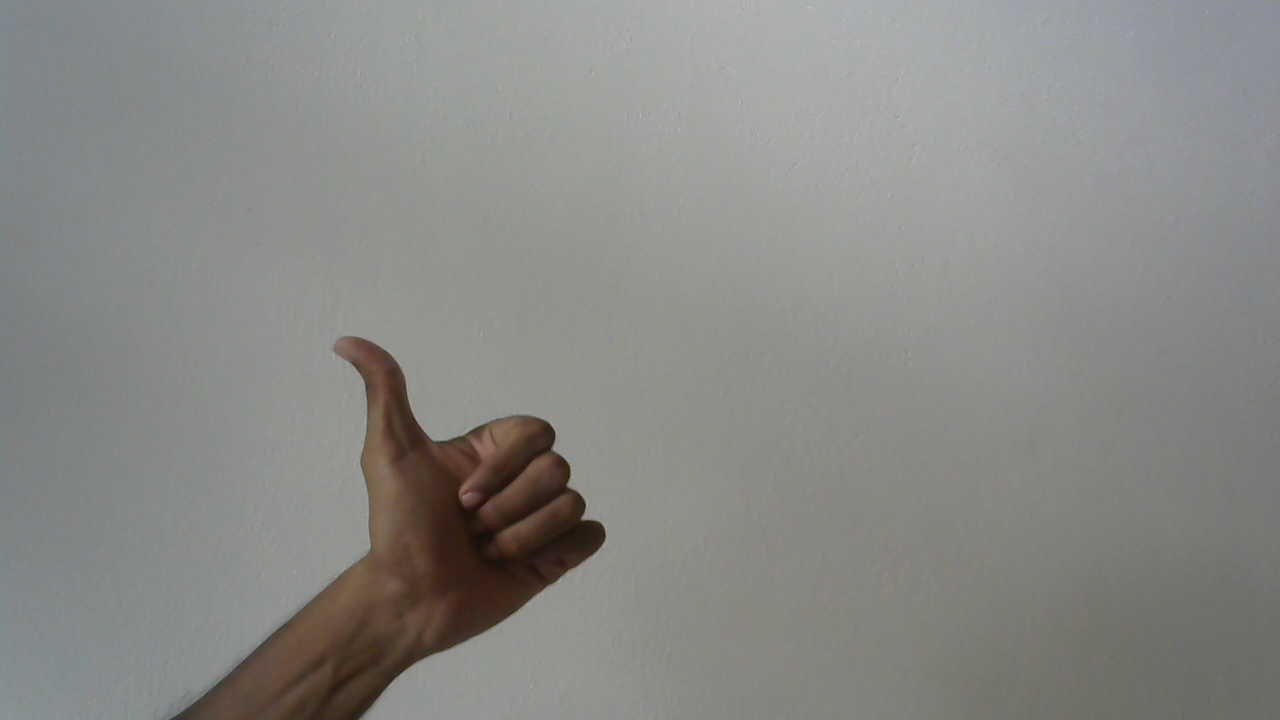thumbsup: (322, 320, 617, 656)
